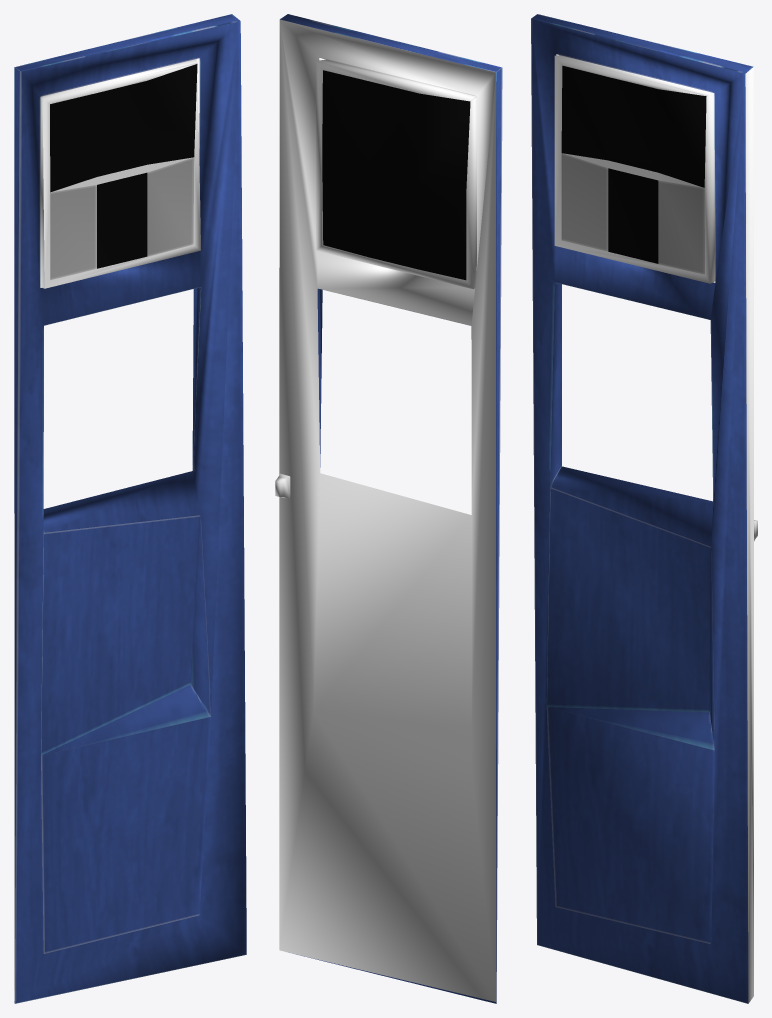
Rendered from door_left.obj.
The picture shows the model from 3 angles, left to right: view 1: azimuth 30°, elevation 25°; view 2: azimuth 150°, elevation 25°; view 3: azimuth 330°, elevation 25°; orthographic projection.
Parts seen in each view (by area): view 1: 1.Left_Door; view 2: 1.Left_Door; view 3: 1.Left_Door.
Part boxes in pixels (x1=…): 1.Left_Door: x1=14, y1=14, x2=246, y2=1003; 1.Left_Door: x1=275, y1=14, x2=502, y2=1003; 1.Left_Door: x1=531, y1=14, x2=757, y2=1003.
Size of the model in its own units: 0.5677 by 2.28 by 0.0648.
Materials: 1 (1 with a texture image).
